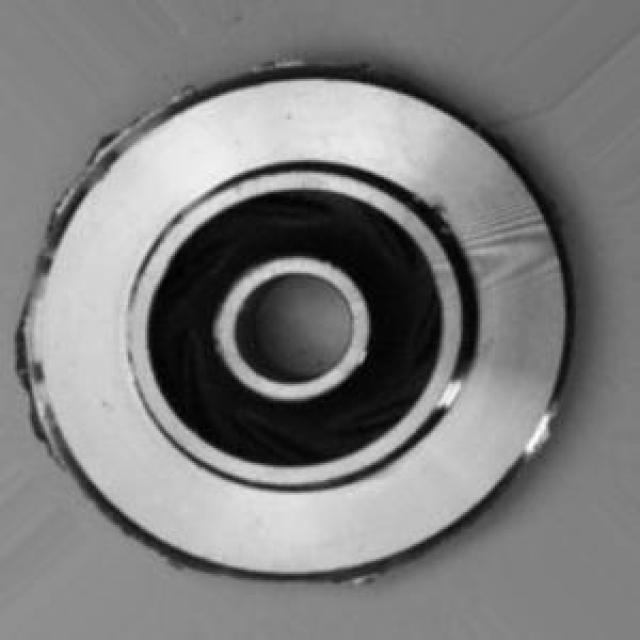Defect: (68, 116, 149, 168)
